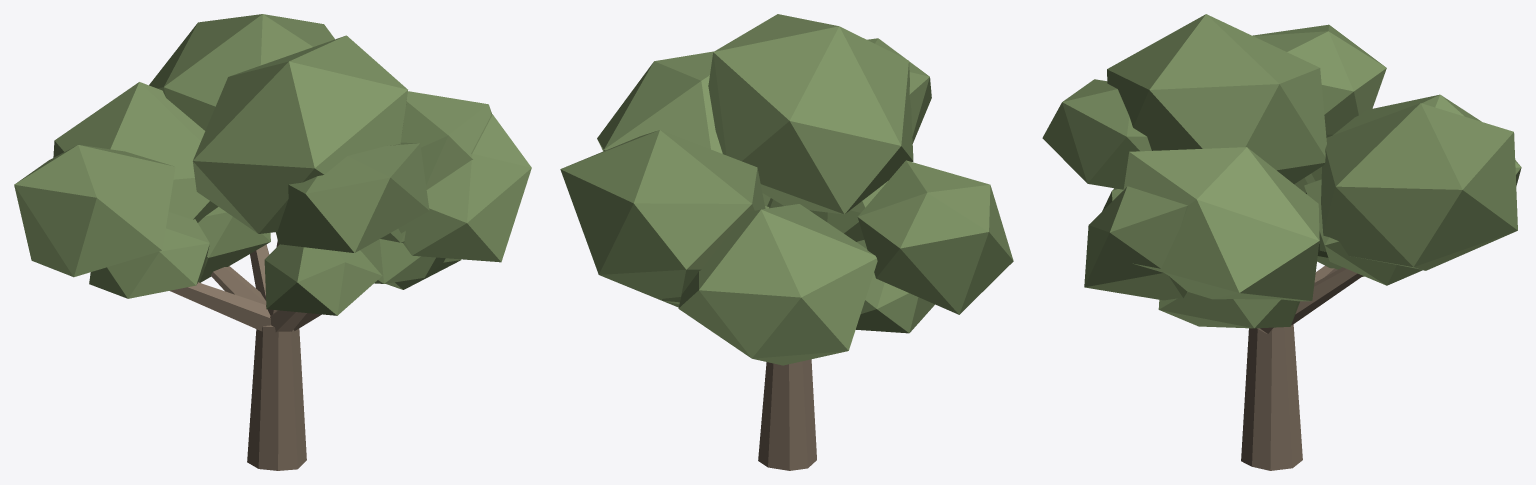
Rendered from broadleaf_6.glb.
The picture shows the model from 3 angles, left to right: view 1: azimuth 30°, elevation 25°; view 2: azimuth 150°, elevation 25°; view 3: azimuth 270°, elevation 25°; orthographic projection. The views are drawn at different scales.
Visible parts, largest first — view 1: broadleaf_6.001; view 2: broadleaf_6.001; view 3: broadleaf_6.001.
Part boxes in pixels (box(x1,y1,x2,y2)): broadleaf_6.001: box(14, 14, 531, 470); broadleaf_6.001: box(560, 14, 1013, 470); broadleaf_6.001: box(1042, 14, 1521, 470).
Size of the model in its own units: 22.73 by 20.71 by 20.71.
